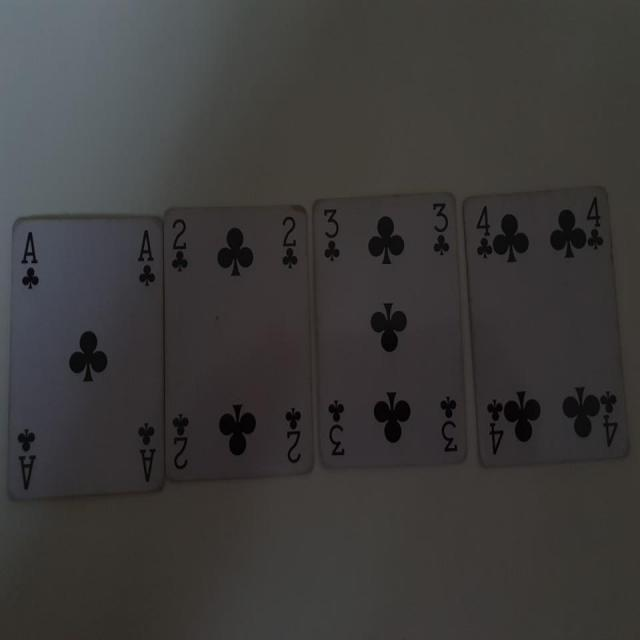2 Trefoils: (162, 201, 315, 482)
3 Trefoils: (312, 188, 468, 471)
4 Trefoils: (462, 186, 633, 471)
A Trefoils: (8, 212, 165, 499)
